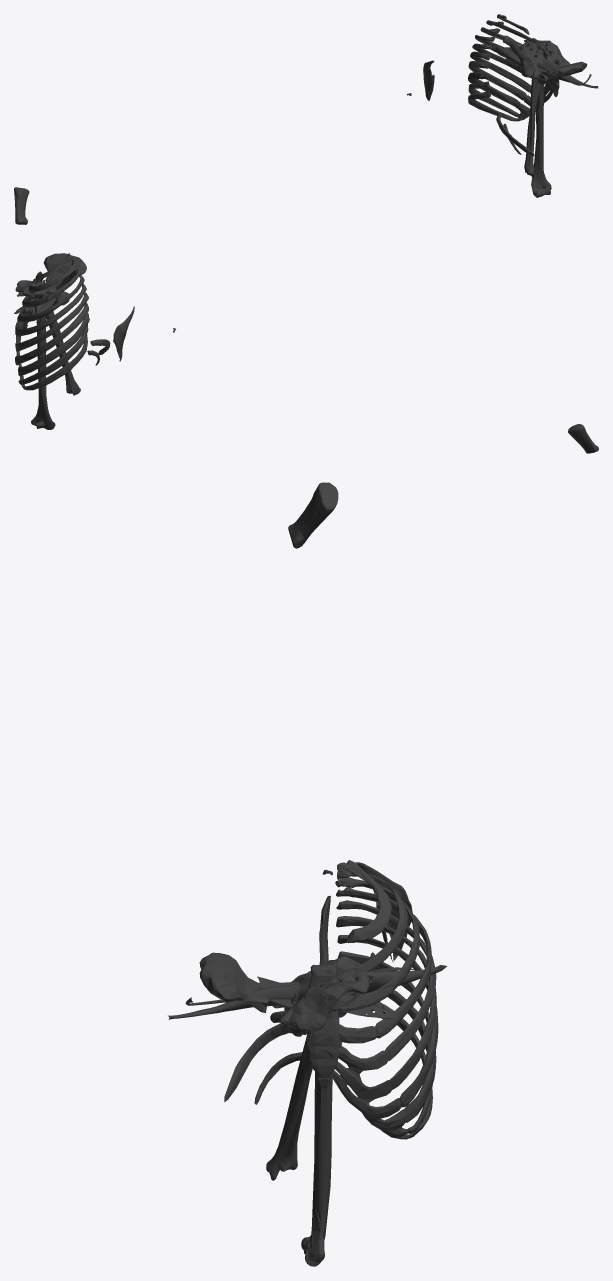
Rendered from sharedassets14.glb.
3 renders of one model, top to bottom at view 1: azimuth 30°, elevation 25°; view 2: azimuth 150°, elevation 25°; view 3: azimuth 270°, elevation 25°, orthographic. The views are drawn at different scales.
Visible parts, largest first — view 1: 0074_S01-05 Sacrum_male_001242, 0002_Humerus _arm, brachium_, R__000807, 0041_Eighth rib _08_, R__002280, 0003_Ulna _forearm, antebrachium_, R__000808, 0048_Sixth rib _06_, R__002278, 0061_Seventh rib _07_, L__002291, 0049_Seventh rib _07_, R__002279, 0010_2nd Middle phalanx _hand_, R__000815, 0043_Tenth rib _10_, R__002282, 0042_Ninth rib _09_, R__002281, 0060_Sixth rib _06_, L__002290, 0037_Manubrium__001162 (+4 smaller); view 2: 0002_Humerus _arm, brachium_, R__000807, 0041_Eighth rib _08_, R__002280, 0049_Seventh rib _07_, R__002279, 0037_Manubrium__001162, 0048_Sixth rib _06_, R__002278, 0042_Ninth rib _09_, R__002281, 0047_Fifth rib _05_, R__002277, 0043_Tenth rib _10_, R__002282, 0074_S01-05 Sacrum_male_001242, 0010_2nd Middle phalanx _hand_, R__000815, 0046_Fourth rib _04_, R__002276, 0045_Third rib _03_, R__002275 (+3 smaller); view 3: 0074_S01-05 Sacrum_male_001242, 0002_Humerus _arm, brachium_, R__000807, 0048_Sixth rib _06_, R__002278, 0037_Manubrium__001162, 0047_Fifth rib _05_, R__002277, 0046_Fourth rib _04_, R__002276, 0049_Seventh rib _07_, R__002279, 0038_Body of sternum__001163, 0034_Biceps brachii, short head, R__100054, 0045_Third rib _03_, R__002275, 0041_Eighth rib _08_, R__002280, 0010_2nd Middle phalanx _hand_, R__000815 (+3 smaller).
Part boxes in pixels (bbox=[...]): 0074_S01-05 Sacrum_male_001242: bbox=[519, 38, 569, 84]; 0002_Humerus _arm, brachium_, R__000807: bbox=[531, 84, 551, 197]; 0041_Eighth rib _08_, R__002280: bbox=[468, 72, 535, 116]; 0003_Ulna _forearm, antebrachium_, R__000808: bbox=[527, 50, 542, 177]; 0048_Sixth rib _06_, R__002278: bbox=[470, 51, 550, 95]; 0061_Seventh rib _07_, L__002291: bbox=[468, 62, 552, 105]; 0049_Seventh rib _07_, R__002279: bbox=[468, 61, 552, 106]; 0010_2nd Middle phalanx _hand_, R__000815: bbox=[14, 187, 29, 224]; 0043_Tenth rib _10_, R__002282: bbox=[468, 90, 523, 121]; 0042_Ninth rib _09_, R__002281: bbox=[468, 81, 527, 119]; 0060_Sixth rib _06_, L__002290: bbox=[470, 52, 550, 96]; 0037_Manubrium__001162: bbox=[545, 61, 587, 79]; 0002_Humerus _arm, brachium_, R__000807: bbox=[31, 315, 55, 429]; 0041_Eighth rib _08_, R__002280: bbox=[18, 313, 89, 376]; 0049_Seventh rib _07_, R__002279: bbox=[15, 302, 88, 365]; 0037_Manubrium__001162: bbox=[43, 253, 86, 284]; 0048_Sixth rib _06_, R__002278: bbox=[15, 292, 88, 352]; 0042_Ninth rib _09_, R__002281: bbox=[18, 324, 88, 384]; 0047_Fifth rib _05_, R__002277: bbox=[15, 283, 86, 336]; 0043_Tenth rib _10_, R__002282: bbox=[21, 334, 87, 390]; 0074_S01-05 Sacrum_male_001242: bbox=[15, 280, 69, 305]; 0010_2nd Middle phalanx _hand_, R__000815: bbox=[568, 424, 598, 453]; 0046_Fourth rib _04_, R__002276: bbox=[17, 274, 84, 322]; 0045_Third rib _03_, R__002275: bbox=[22, 266, 81, 307]; 0074_S01-05 Sacrum_male_001242: bbox=[270, 956, 375, 1036]; 0002_Humerus _arm, brachium_, R__000807: bbox=[301, 1072, 332, 1266]; 0048_Sixth rib _06_, R__002278: bbox=[335, 916, 436, 1102]; 0037_Manubrium__001162: bbox=[199, 952, 269, 1012]; 0047_Fifth rib _05_, R__002277: bbox=[336, 900, 436, 1073]; 0046_Fourth rib _04_, R__002276: bbox=[336, 887, 431, 1043]; 0049_Seventh rib _07_, R__002279: bbox=[331, 935, 438, 1122]; 0038_Body of sternum__001163: bbox=[306, 964, 341, 1078]; 0034_Biceps brachii, short head, R__100054: bbox=[168, 965, 446, 1019]; 0045_Third rib _03_, R__002275: bbox=[335, 877, 420, 1011]; 0041_Eighth rib _08_, R__002280: bbox=[338, 951, 436, 1133]; 0010_2nd Middle phalanx _hand_, R__000815: bbox=[288, 482, 338, 548].
Bounding box in the file's own units: 0.6797 × 0.2152 × 0.1494.
Materials: 1 (1 with a texture image).
